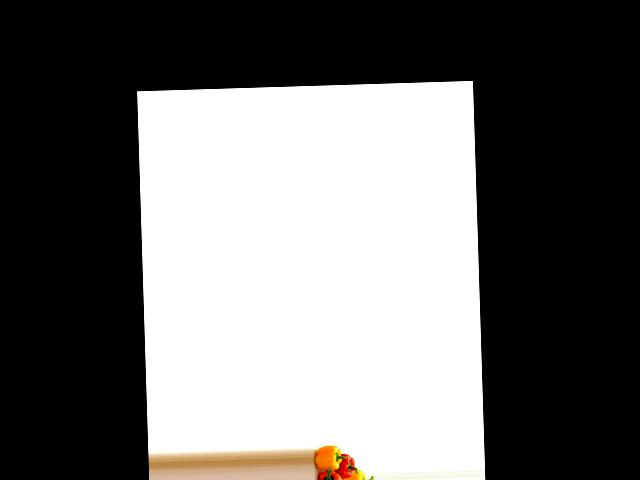bell_pepper: (313, 444, 346, 477)
